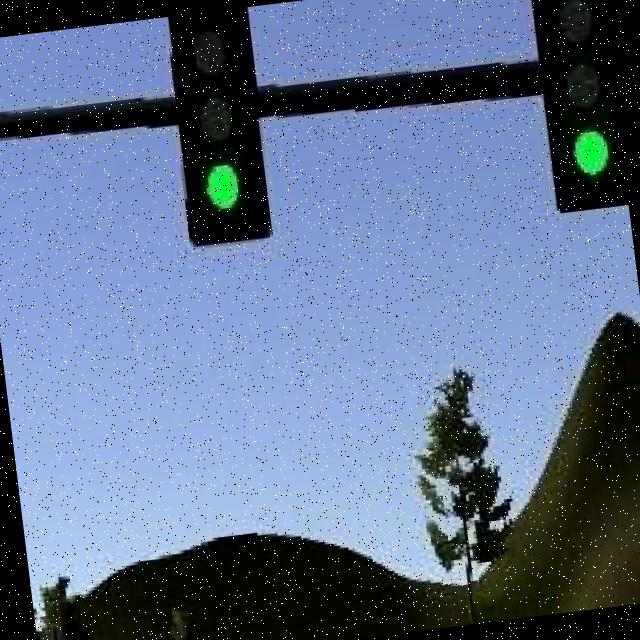Zielone swiatlo: (165, 10, 272, 247), (527, 0, 627, 210)
